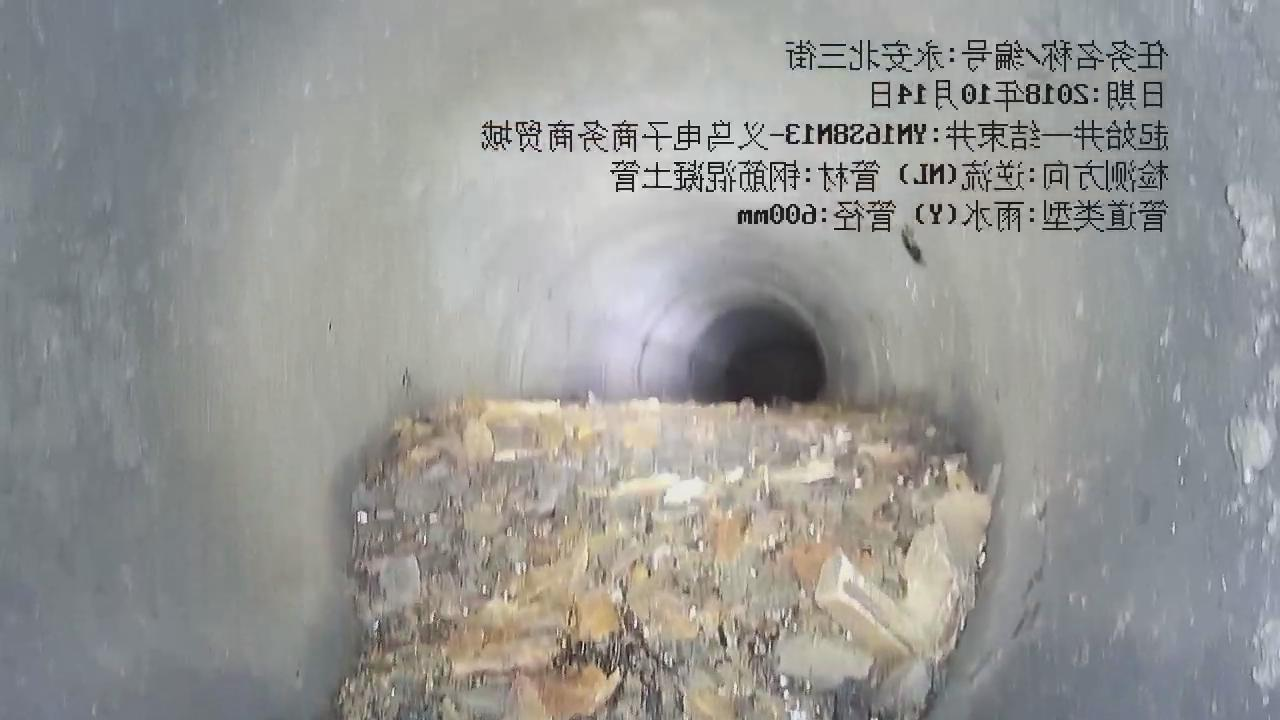ZAW: (333, 398, 992, 719)
